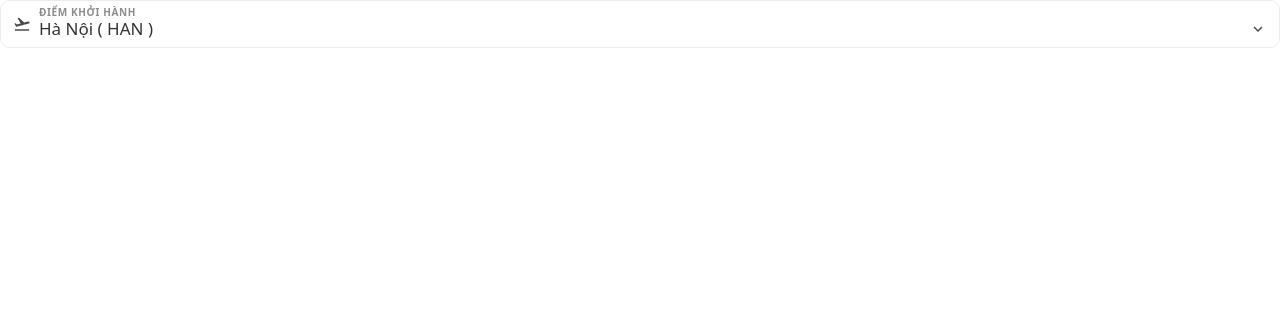
Test: AirportPicker › reports when nothing matches
This screenshot has width=1280, height=311.
Click the button with aria-label "Điểm khởi hành" at x=66, y=28, box [39,17,1267,41]
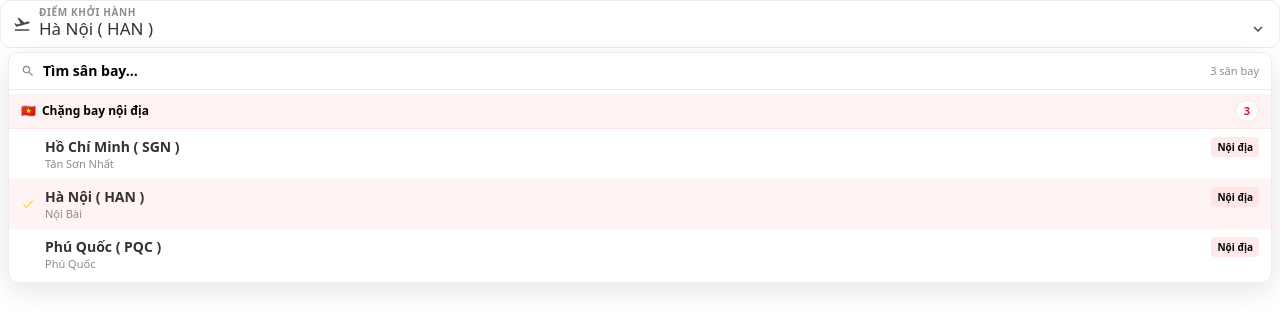
Type "zzzz" into the field named "Tìm điểm khởi hành" at x=623, y=71, box [43,61,1202,81]
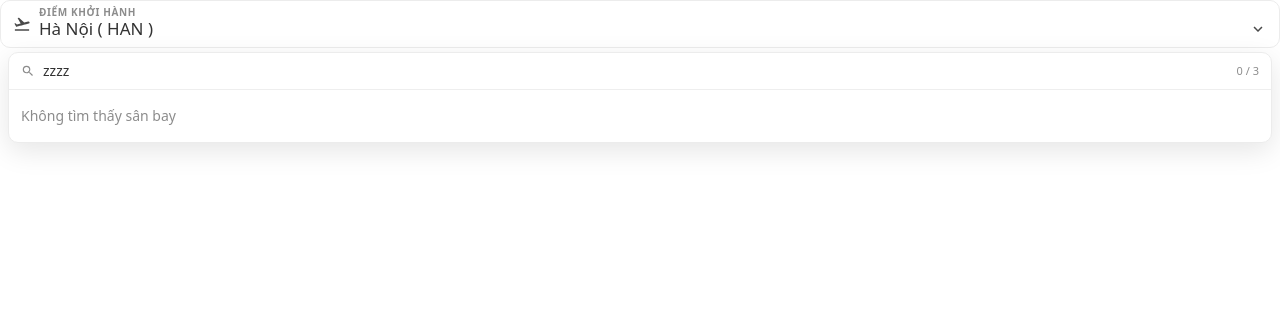
expect the list item "Không tìm thấy sân bay" is shown: met, box [21,106,176,125]
